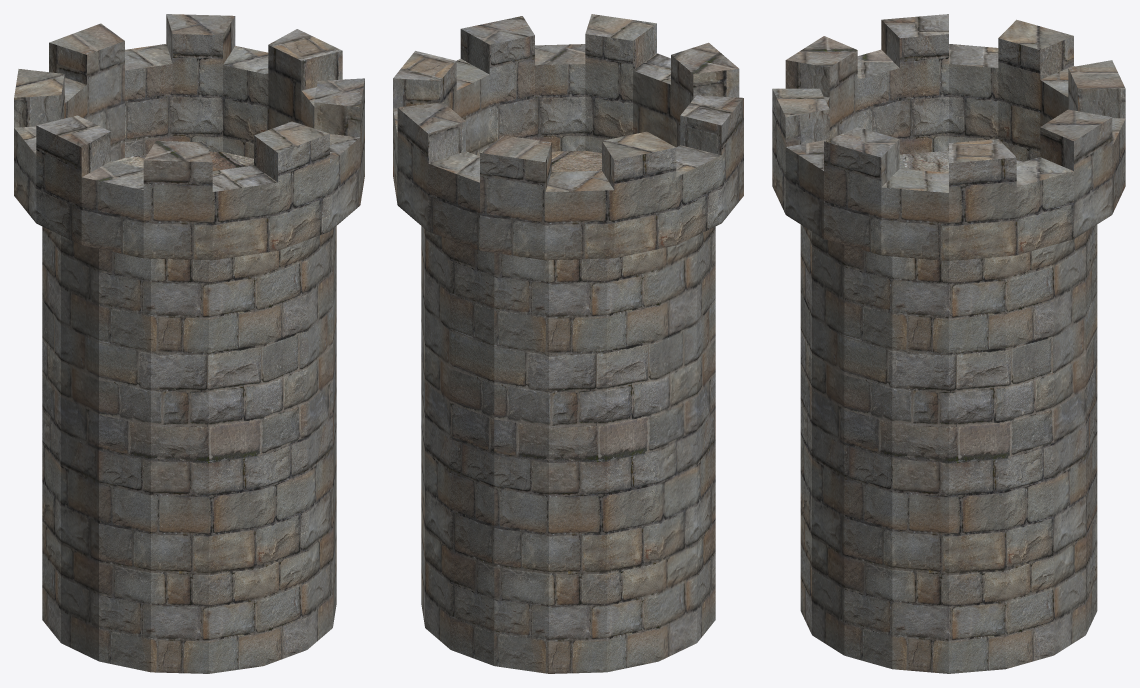
Rendered from tower.fbx.
The picture shows the model from 3 angles, left to right: view 1: azimuth 30°, elevation 25°; view 2: azimuth 150°, elevation 25°; view 3: azimuth 270°, elevation 25°; orthographic projection.
Visible parts, largest first — view 1: polySurface135; view 2: polySurface135; view 3: polySurface135.
Part boxes in pixels (x1,y1,x2,y2): polySurface135: (14,14,364,673); polySurface135: (393,14,743,673); polySurface135: (772,14,1125,673).
Bounding box in the file's own units: 0.6841 × 1.12 × 0.6841.
1 material, 1 textured.
